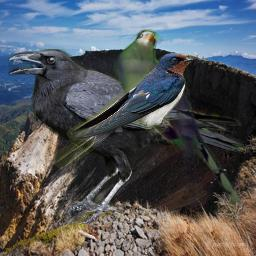Crow: (8, 49, 244, 224)
Cuckoo: (114, 29, 251, 206)
Swallow: (54, 53, 195, 171)
